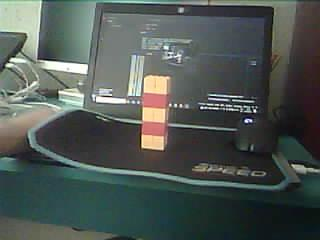lego: (141, 74, 171, 151)
